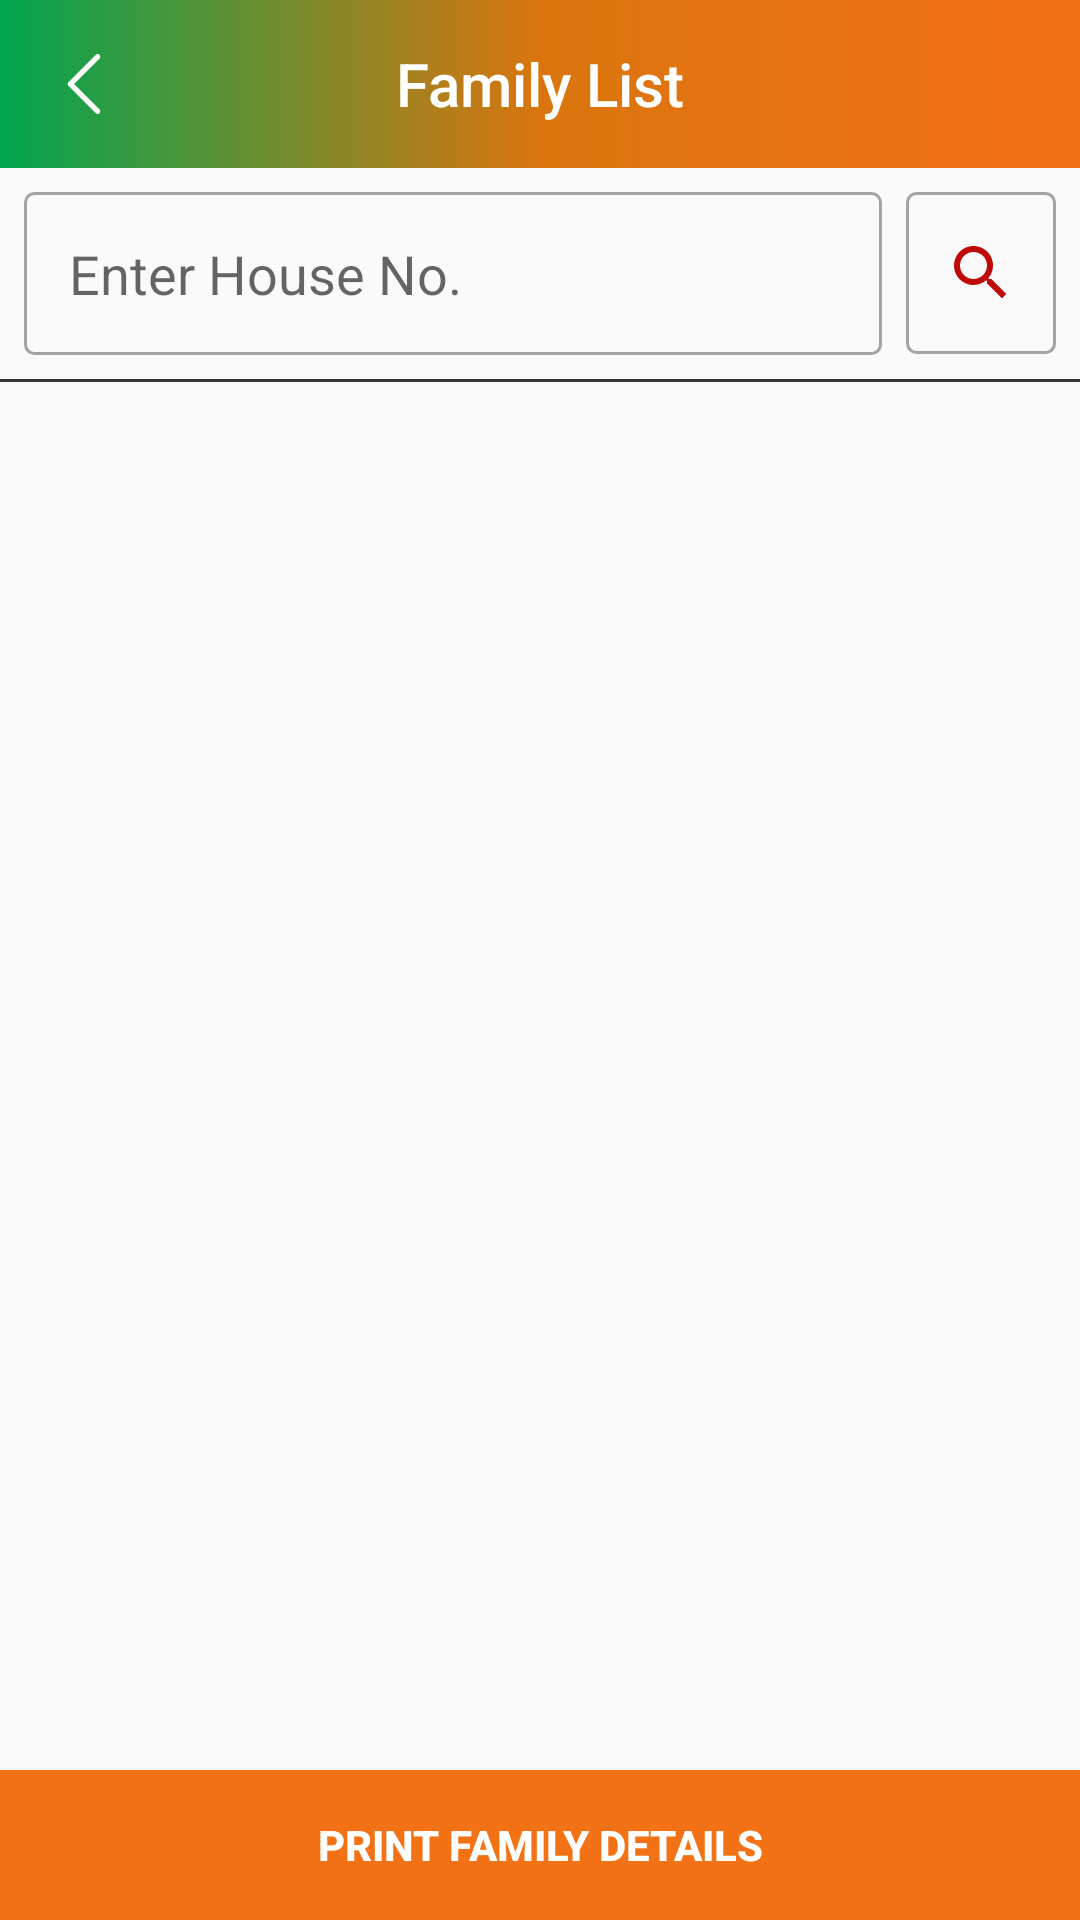

Locate icon controls on the screen. Image size 1080px x 1920px, boxes as [x1=x1, y1=y1, x2=x2, y2=y2].
search: [x1=906, y1=192, x2=1056, y2=354]
